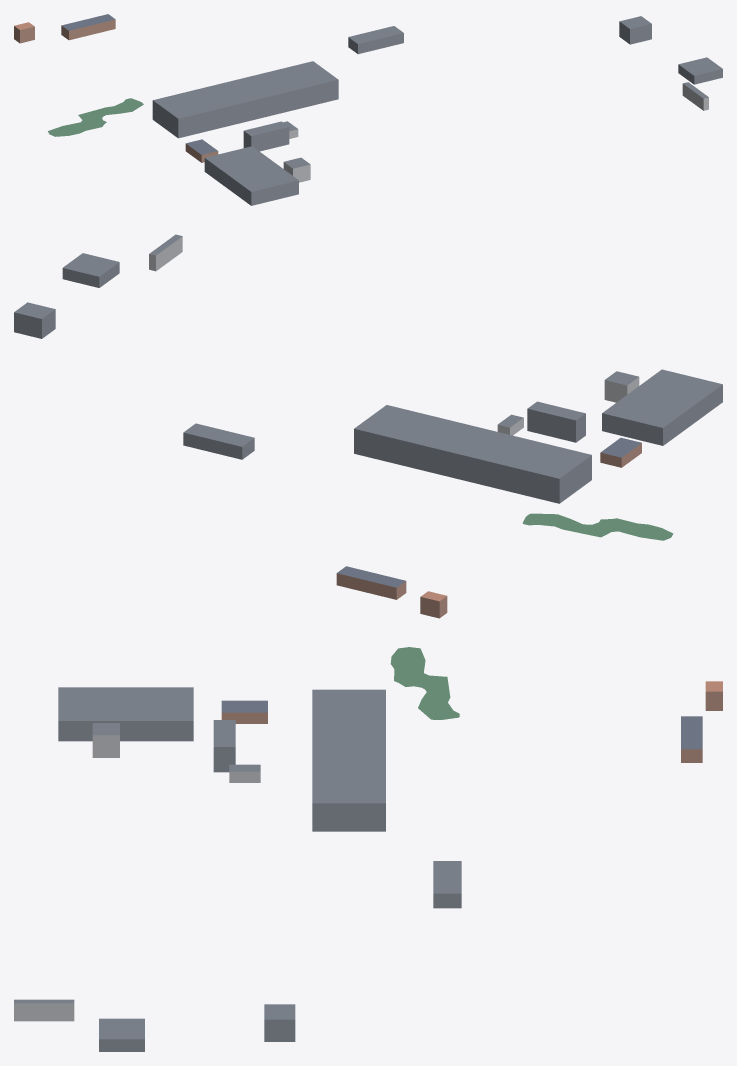
File: tile_1_6_lod1.glb
3 renders of one model, top to bottom at view 1: azimuth 30°, elevation 25°; view 2: azimuth 150°, elevation 25°; view 3: azimuth 270°, elevation 25°, orthographic. The views are drawn at different scales.
Parts seen in each view (by area): view 1: TileRoot; view 2: TileRoot; view 3: TileRoot.
Boxes of the visible parts, x1,y1,x2,y2 form: TileRoot: [14, 14, 722, 205]; TileRoot: [14, 234, 722, 618]; TileRoot: [14, 647, 722, 1051].
Size of the model in its own units: 381 by 12.94 by 285.
